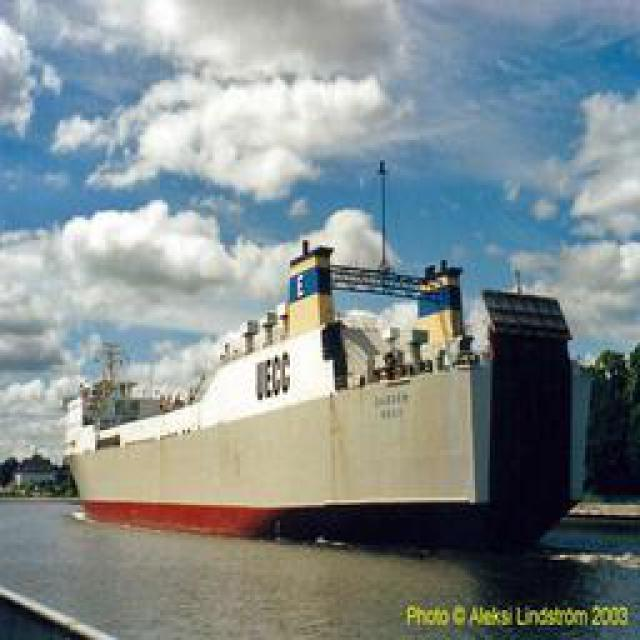Ship: (61, 192, 536, 540)
